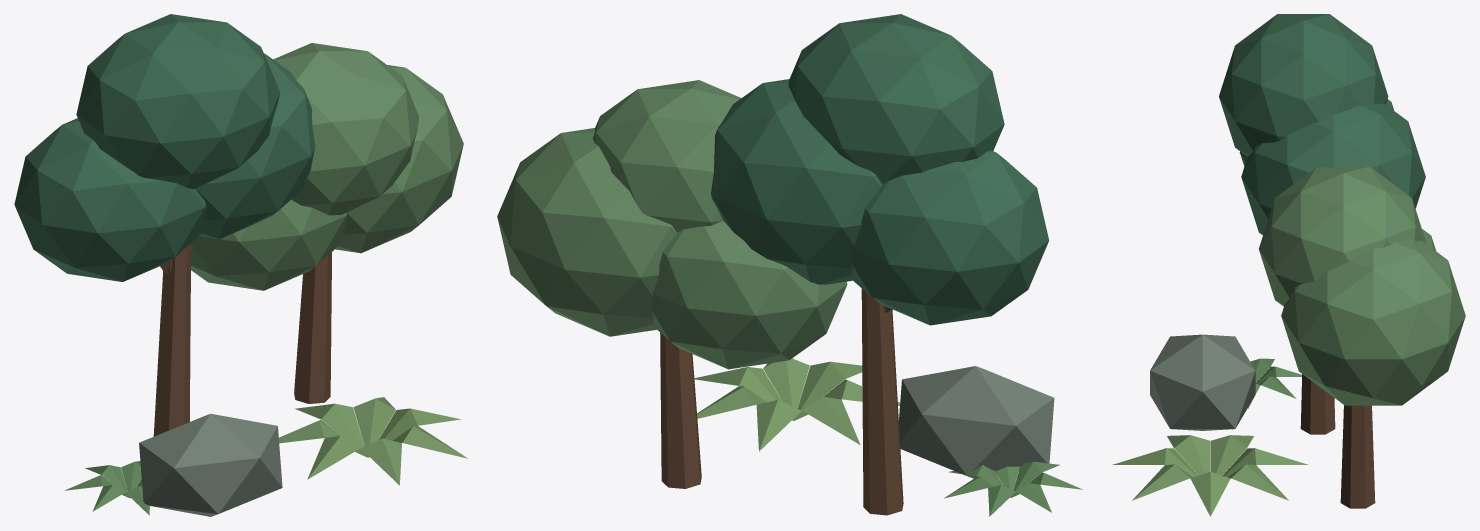
File: xingyin-environment-v2__forest_canopy_group.glb
The picture shows the model from 3 angles, left to right: view 1: azimuth 30°, elevation 25°; view 2: azimuth 150°, elevation 25°; view 3: azimuth 270°, elevation 25°; orthographic projection. The views are drawn at different scales.
Visible parts, largest first — view 1: forest_canopy_group; view 2: forest_canopy_group; view 3: forest_canopy_group.
Part boxes in pixels (box(x1,y1,x2,y2)): forest_canopy_group: box(14, 14, 467, 516); forest_canopy_group: box(497, 14, 1082, 516); forest_canopy_group: box(1112, 14, 1465, 516).
Bounding box in the file's own units: 4.35 × 4.18 × 3.19.
